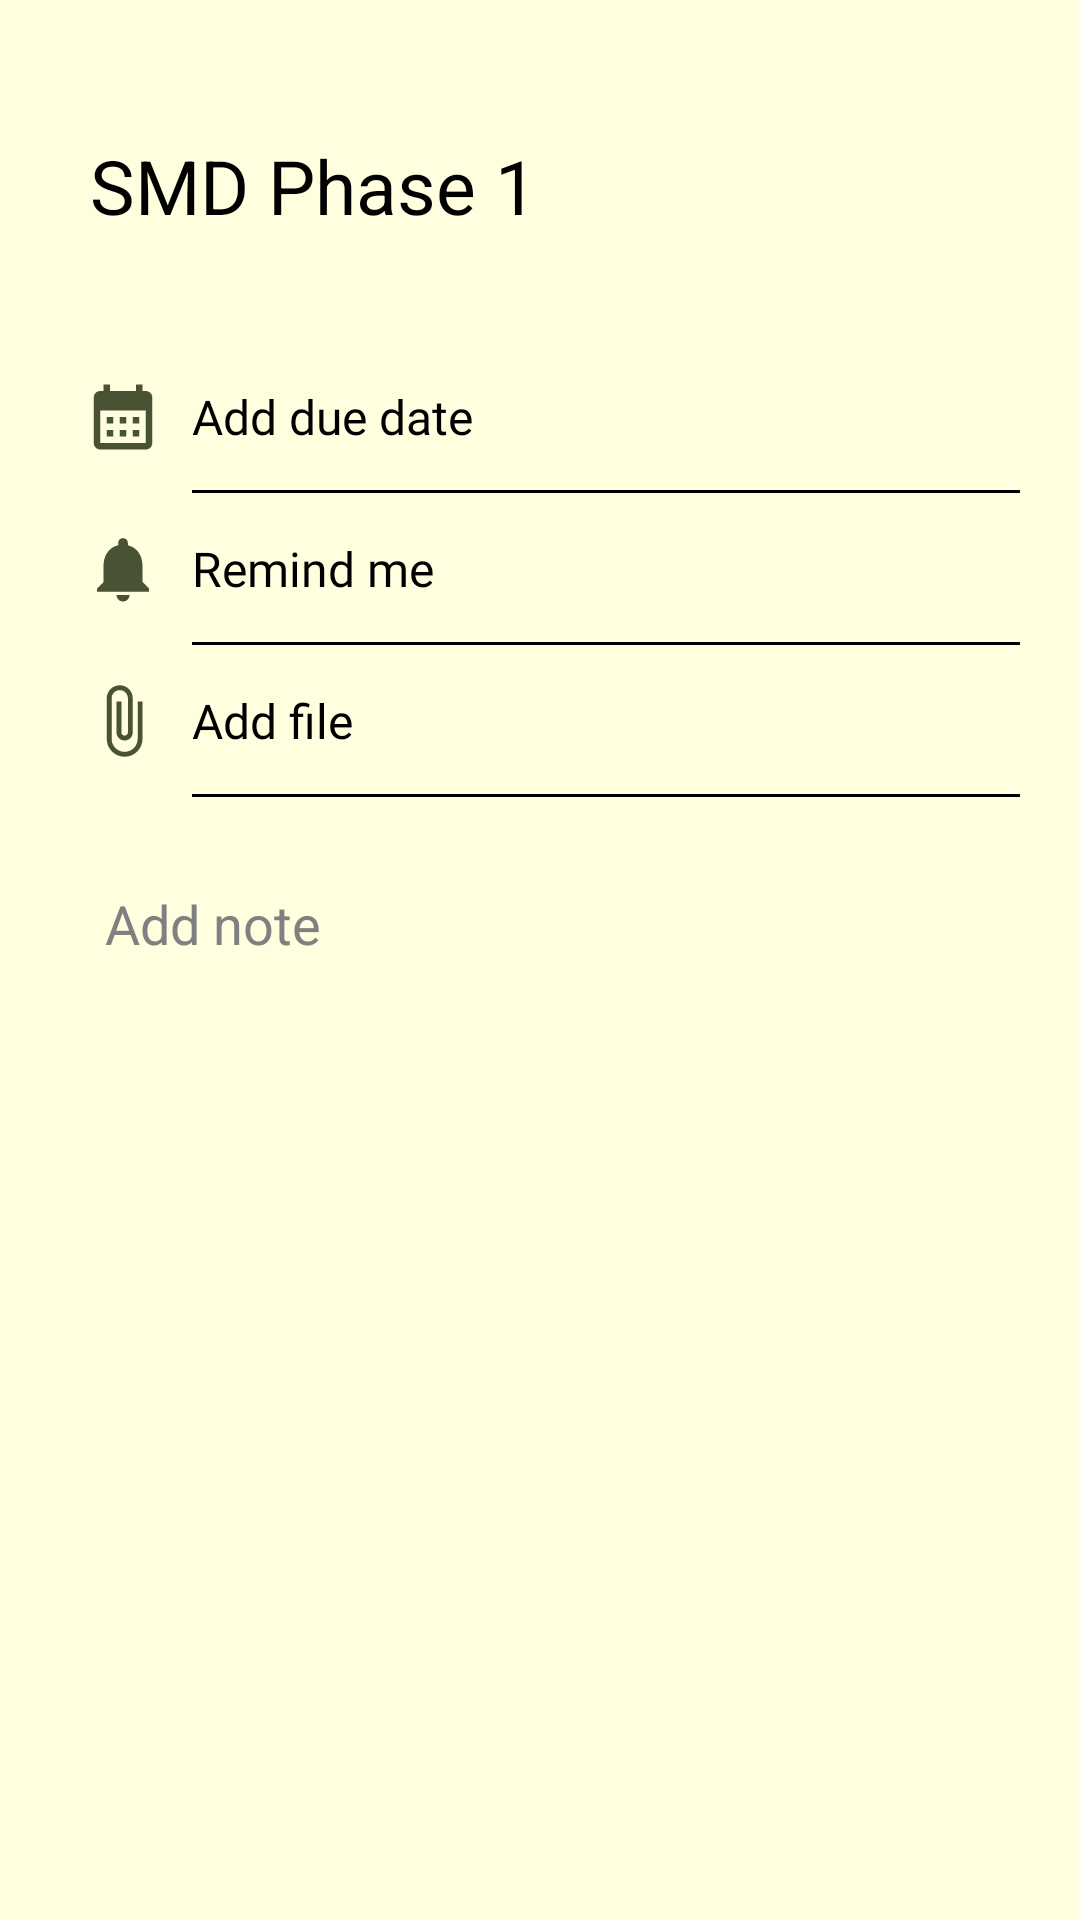

Screen size 1080*1920. Icon name, then its box in pixels as Rect(x1, y1, x2, y2):
attach file: Rect(106, 685, 143, 757)
calendar month: Rect(93, 384, 153, 450)
notifications: Rect(97, 538, 149, 602)
